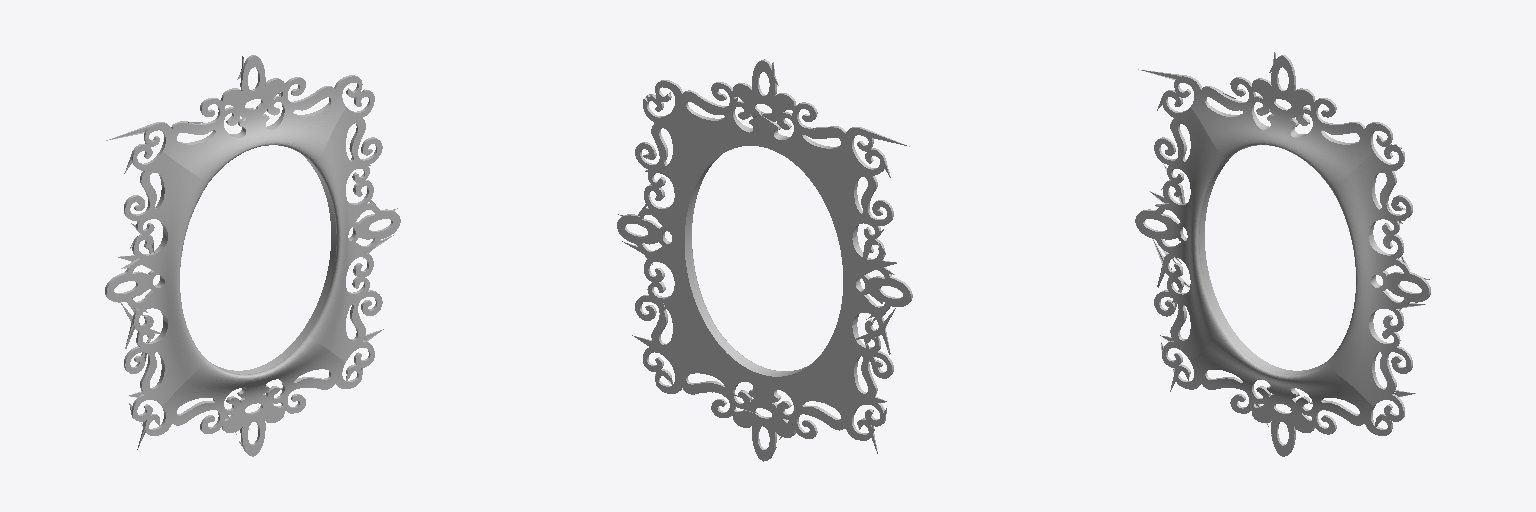
The model's file is picture_frame1.obj.
The picture shows the model from 3 angles: view 1: azimuth 30°, elevation 25°; view 2: azimuth 150°, elevation 25°; view 3: azimuth 330°, elevation 25°; orthographic projection.
Size of the model in its own units: 230 by 302 by 11.1.